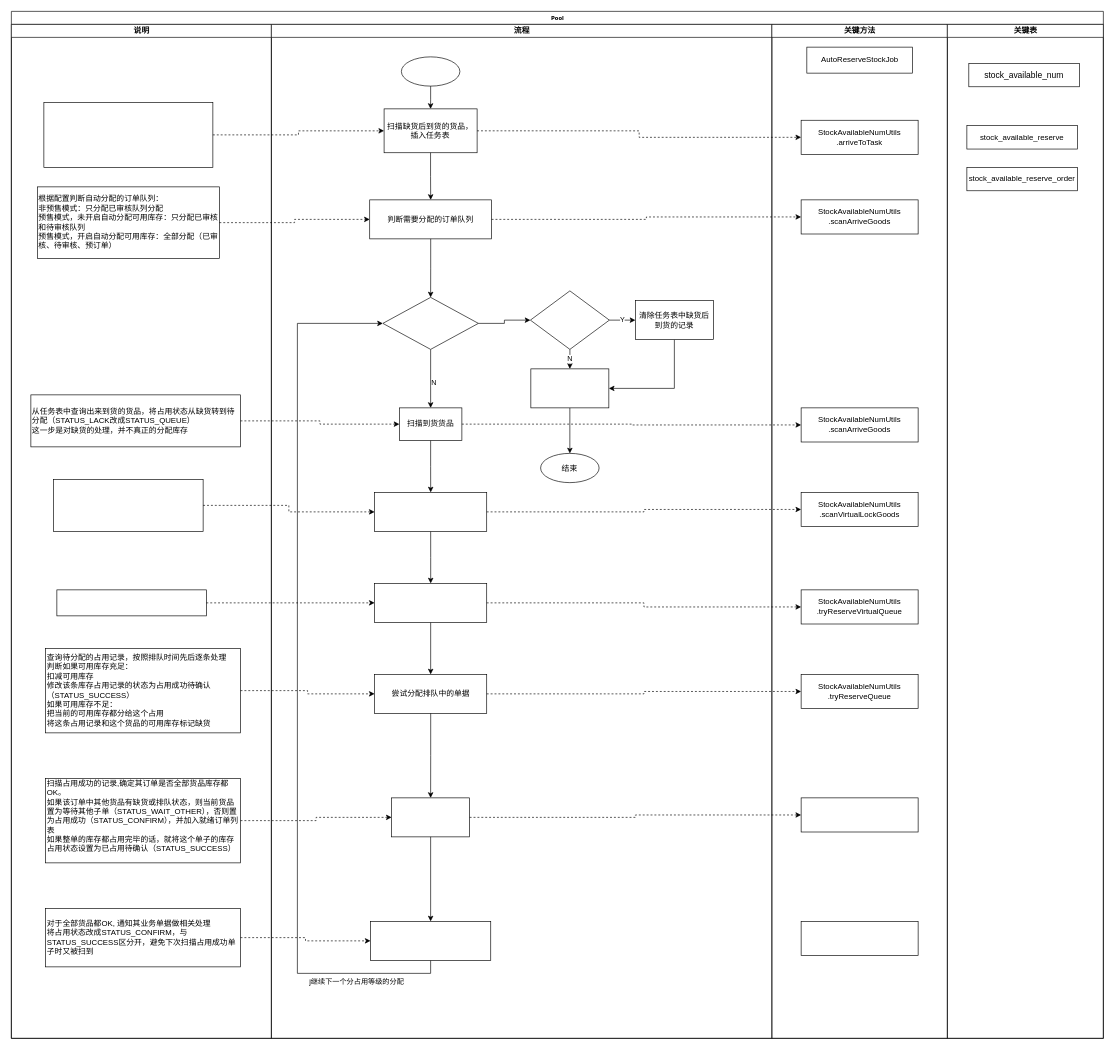
Image size: 1115x1050. Some labels were removed from this diagram. Here are the shapes that lost their labels. From the top down, the centre of each, then its label:
the point at 430,71: 开始
the point at 128,134: 1.将缺货后到货的库存，插入到货任务表 2.分配排队中的单据，不再处理缺货后到货库存，缺货后到货的属于后入库的，跳过暂不分配
the point at 430,323: 是否到最低分配等级
the point at 569,319: 判断是否分配到了预订单级别
the point at 569,388: 发起客户端通知
the point at 128,505: 将到货的虚拟仓锁定单据的库存占用状态改为排队中，这一步并没有真正分配库存
the point at 430,511: 扫描虚拟仓中的到货货品
the point at 131,602: 扣减虚拟仓锁定单据的占用数量，给对应的虚拟仓订单的占用记录
the point at 430,602: 对虚拟仓订单进行占用
the point at 430,817: 扫描订单哪些就绪
the point at 859,814: StockAvailableNumUtils .scanReadyOrder
the point at 430,940: 通知业务单据库存已分配成功
the point at 859,938: StockAvailableNumUtils .notifyOrderReady
